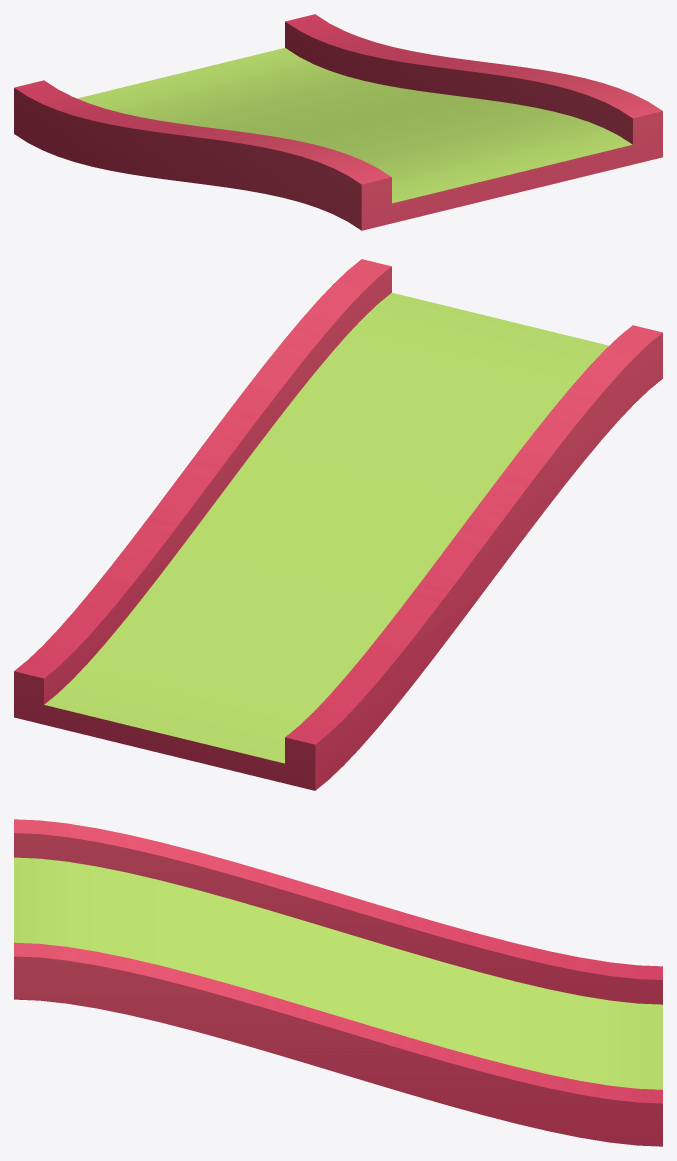
Rendered from ramp-large.fbx.
The picture shows the model from 3 angles, top to bottom: view 1: azimuth 30°, elevation 25°; view 2: azimuth 150°, elevation 25°; view 3: azimuth 270°, elevation 25°; orthographic projection. The views are drawn at different scales.
Parts seen in each view (by area): view 1: ramp_large; view 2: ramp_large; view 3: ramp_large.
Part boxes in pixels (x1,y1,x2,y2): ramp_large: (14,14,662,230); ramp_large: (14,259,662,790); ramp_large: (14,819,662,1146).
Bounding box in the file's own units: 99.99 × 64.67 × 200.
Materials: 1 (1 with a texture image).
